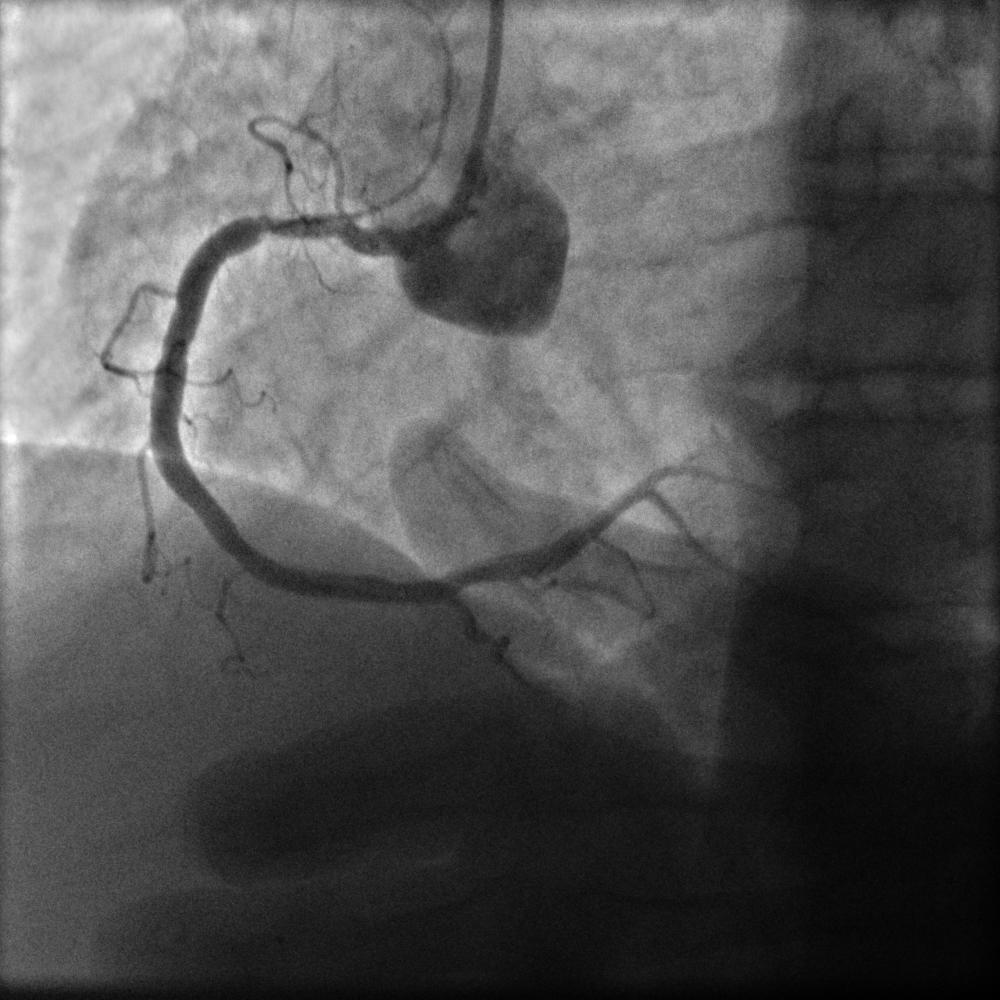Stenosis: (250, 197, 358, 255)
